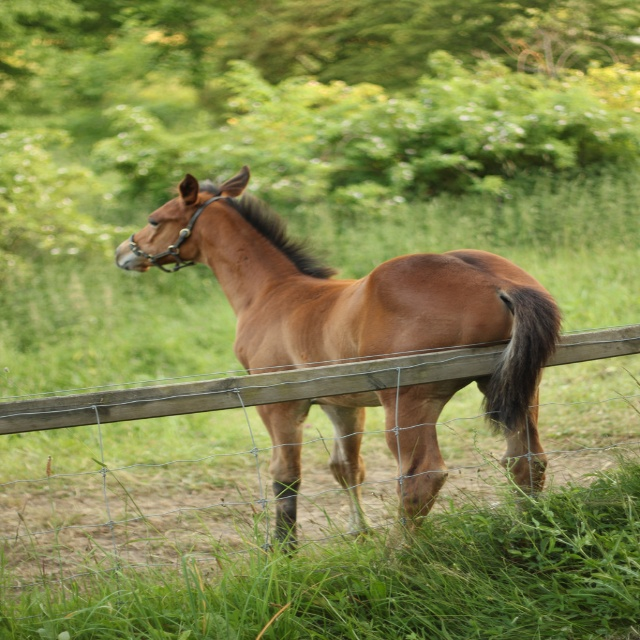Horse: (110, 164, 564, 562)
